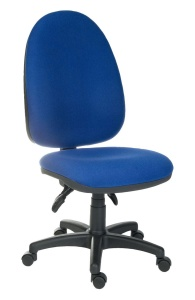chair: (21, 10, 174, 290)
